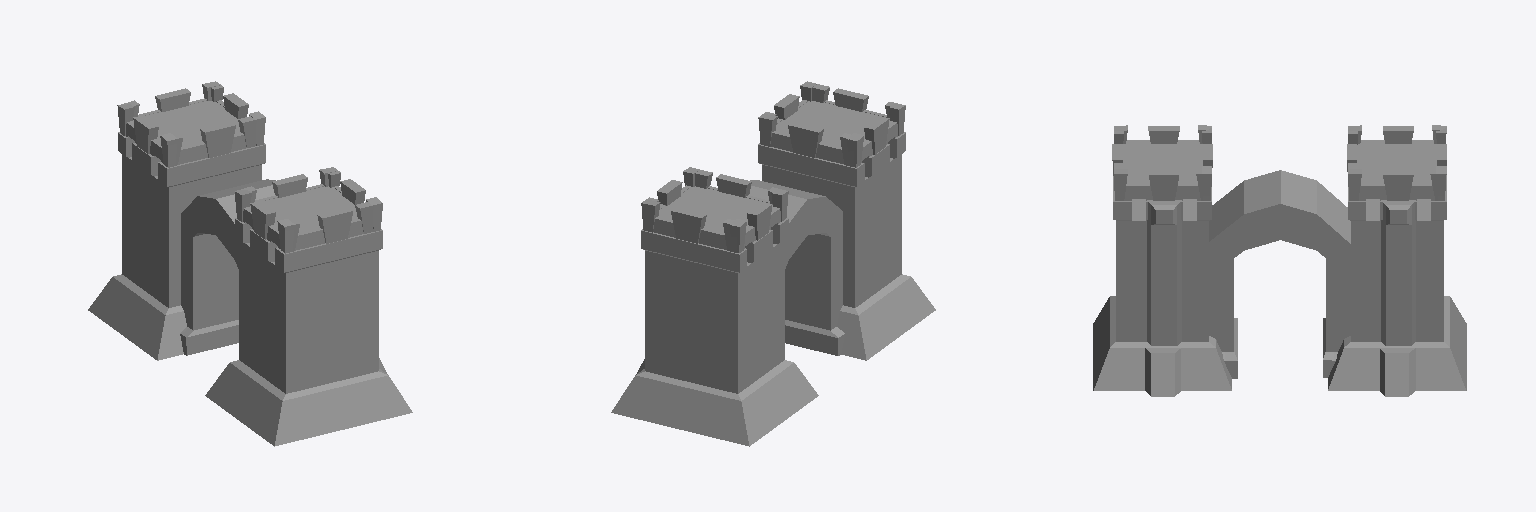
Rendered from gate2.obj.
3 renders of one model, left to right at view 1: azimuth 30°, elevation 25°; view 2: azimuth 150°, elevation 25°; view 3: azimuth 270°, elevation 25°, orthographic.
Parts seen in each view (by area): view 1: Cube.002_Cube.021; view 2: Cube.002_Cube.021; view 3: Cube.002_Cube.021.
Boxes of the visible parts, x1,y1,x2,y2 form: Cube.002_Cube.021: [88, 81, 412, 446]; Cube.002_Cube.021: [611, 81, 935, 446]; Cube.002_Cube.021: [1093, 125, 1466, 396].
Bounding box in the file's own units: 6.47 × 8.6 × 13.97.